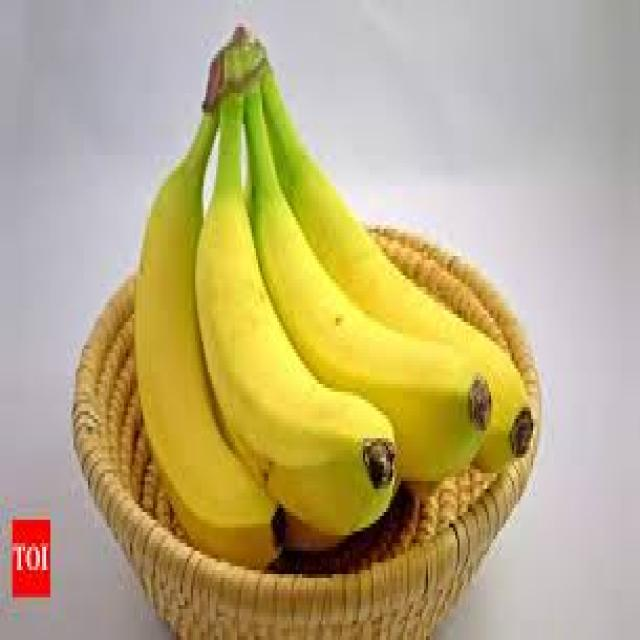Banana: (132, 28, 532, 569)
